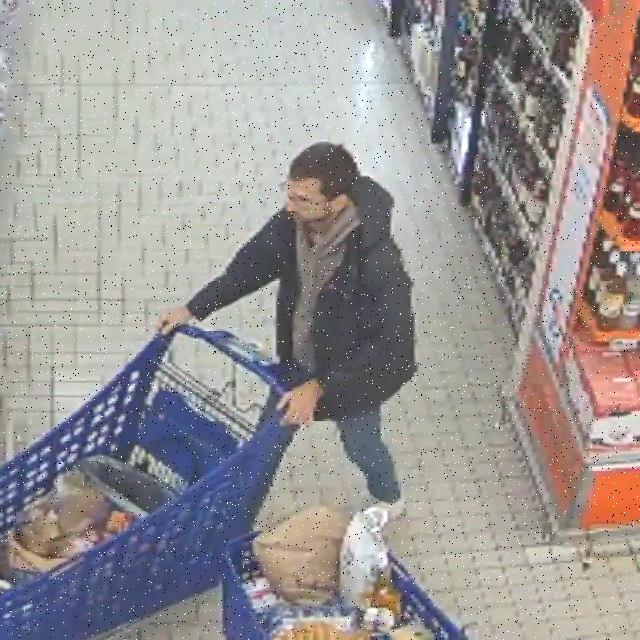hands: (279, 379, 322, 425), (157, 307, 192, 334)
person: (158, 141, 416, 522)
